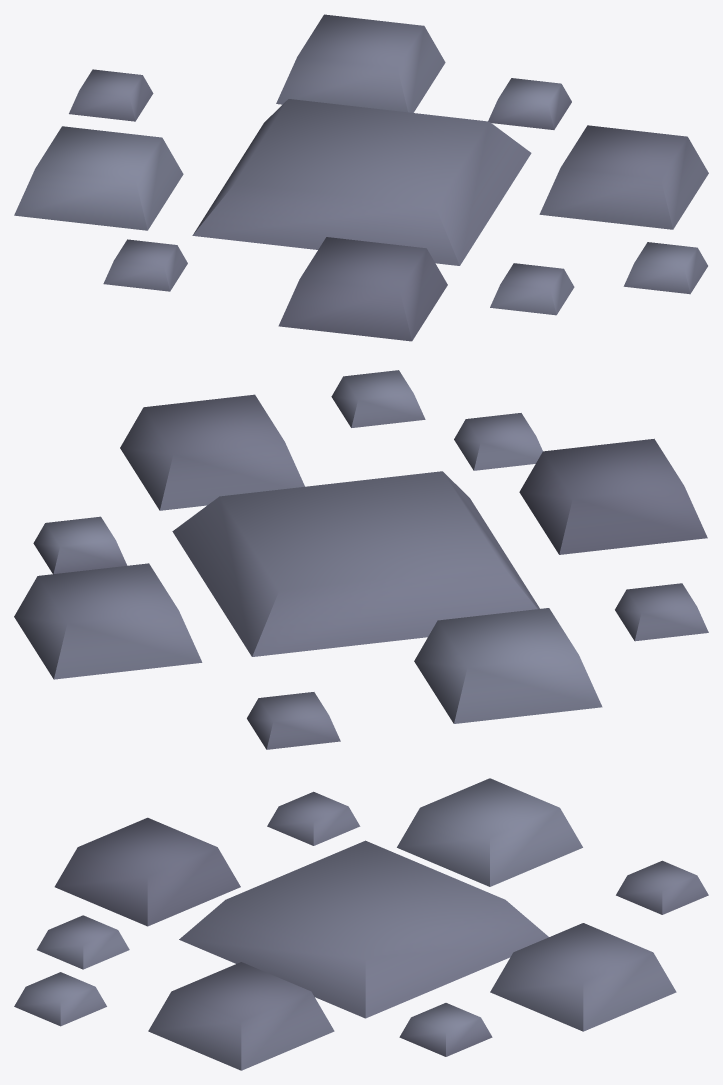
Rendered from stones.glb.
3 views of the same model, one above another, from view 1: azimuth 30°, elevation 25°; view 2: azimuth 150°, elevation 25°; view 3: azimuth 270°, elevation 25° (orthographic). The views are drawn at different scales.
Visible parts, largest first — view 1: stones; view 2: stones; view 3: stones.
Part boxes in pixels (left/top/right/bottom): stones: left=14, top=14, right=708, bottom=341; stones: left=14, top=370, right=708, bottom=749; stones: left=14, top=778, right=708, bottom=1070.
Size of the model in its own units: 3.55 by 0.2502 by 3.95.
1 material, 1 textured.
